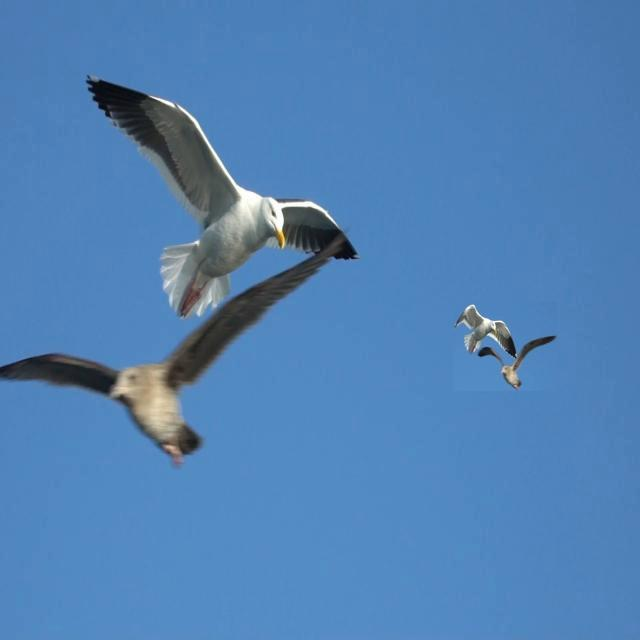bird: (0, 219, 350, 471), (88, 73, 356, 325), (476, 330, 562, 393), (454, 304, 520, 363)
